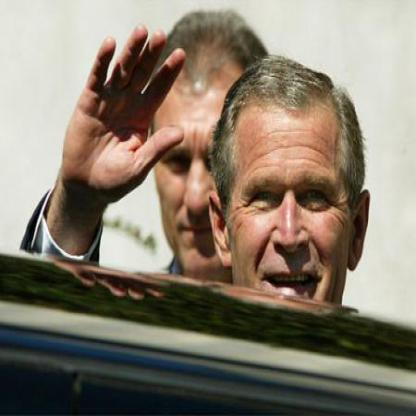face: (228, 65, 356, 346), (152, 21, 257, 278)
